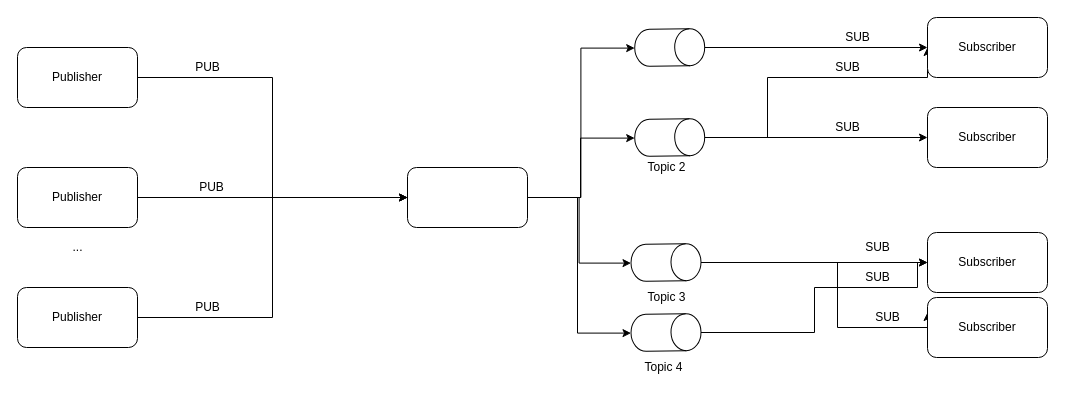
Image size: 1065x395. Some labels were removed from this diagram. The box of each missing label's shape, as (x1, y1, x2, y2) in pixels:
Message Broker: (406, 166, 528, 228)
Topic 1: (633, 27, 705, 67)
